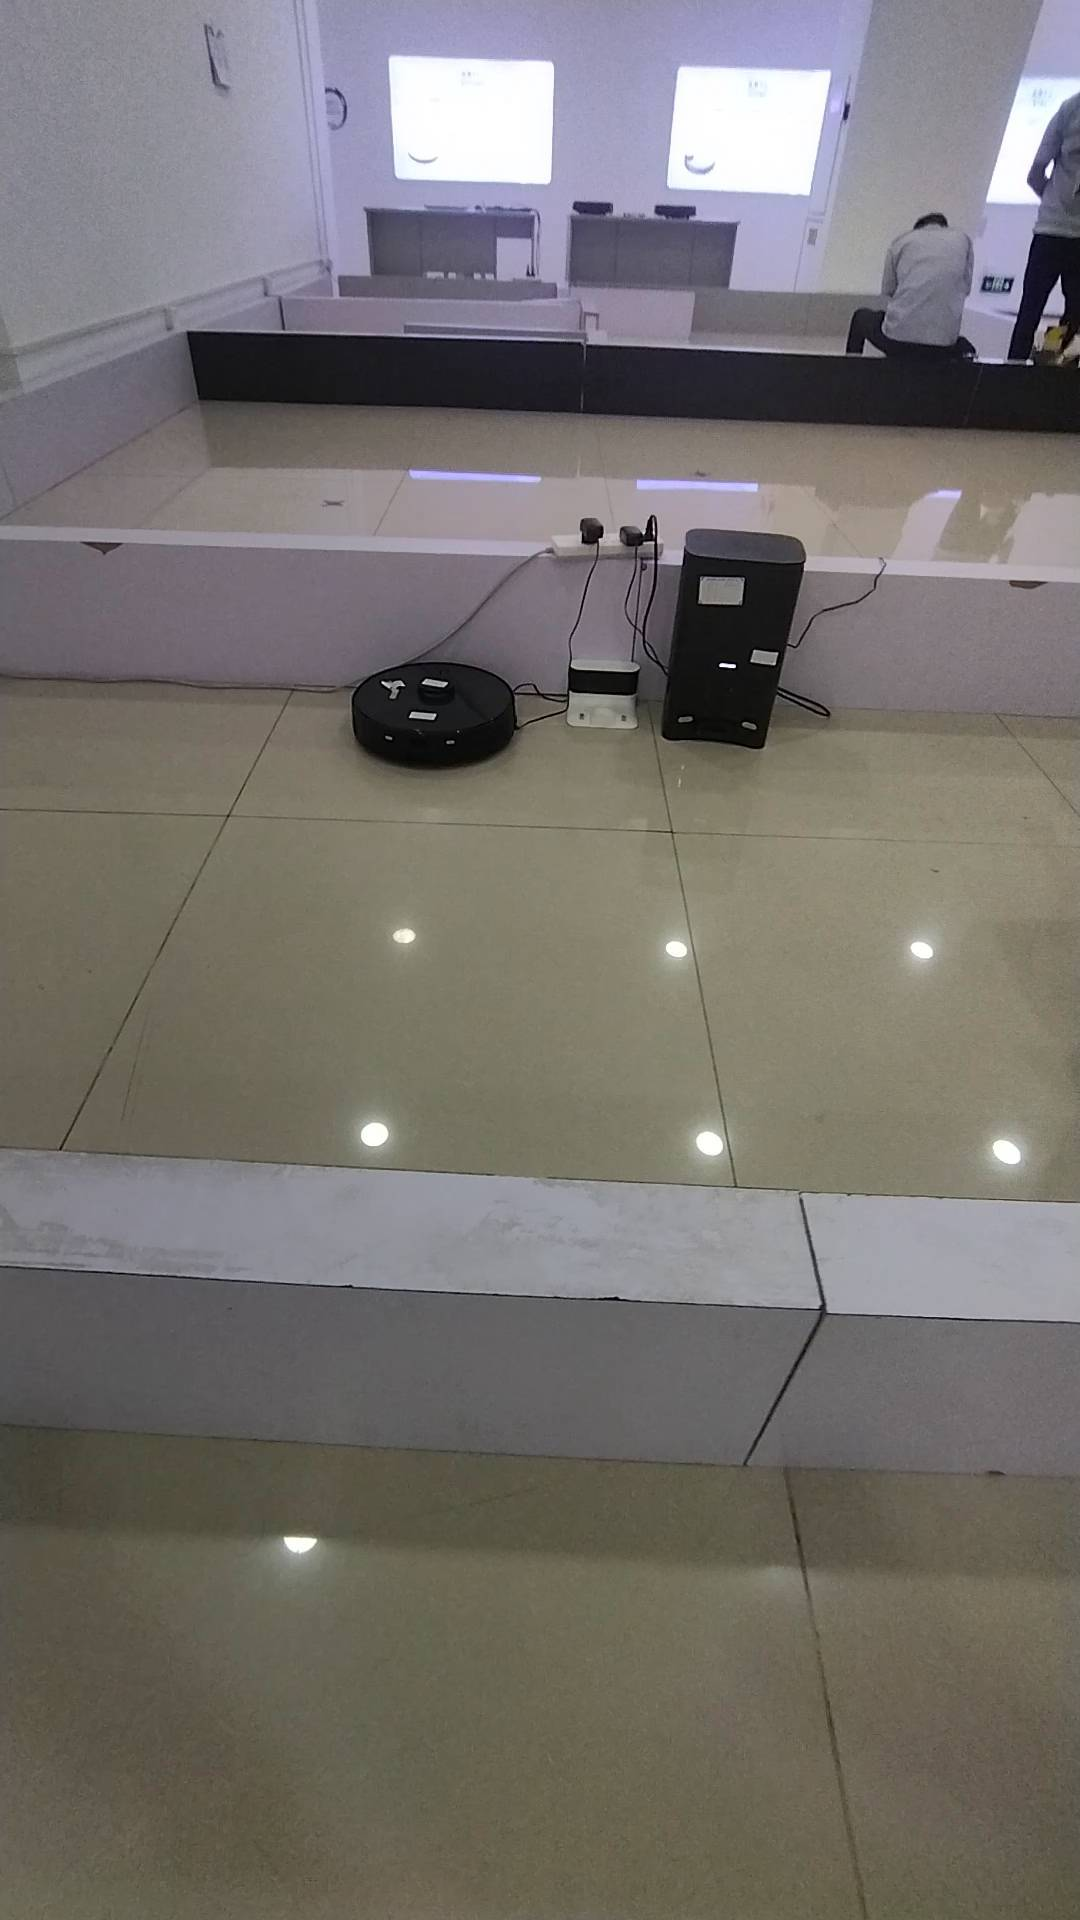dust collecting barrel: (661, 530, 811, 752)
recharge seat: (560, 658, 642, 731)
